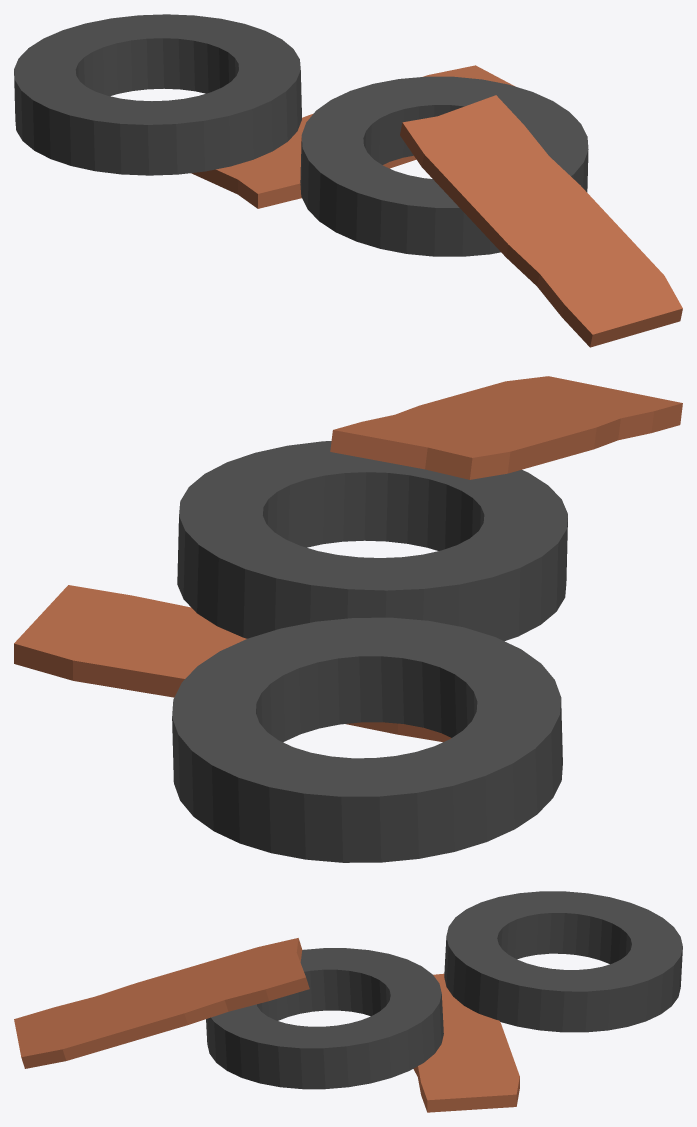
Rendered from Destroços 1 PRONTO.fbx.
3 renders of one model, top to bottom at view 1: azimuth 30°, elevation 25°; view 2: azimuth 150°, elevation 25°; view 3: azimuth 270°, elevation 25°, orthographic. The views are drawn at different scales.
Parts seen in each view (by area): view 1: Cylinder; view 2: Cylinder; view 3: Cylinder.
Part boxes in pixels (x1=…): Cylinder: x1=14, y1=14, x2=682, y2=347; Cylinder: x1=14, y1=376, x2=682, y2=862; Cylinder: x1=14, y1=891, x2=682, y2=1112.
Bounding box in the file's own units: 610 × 143 × 1003.
